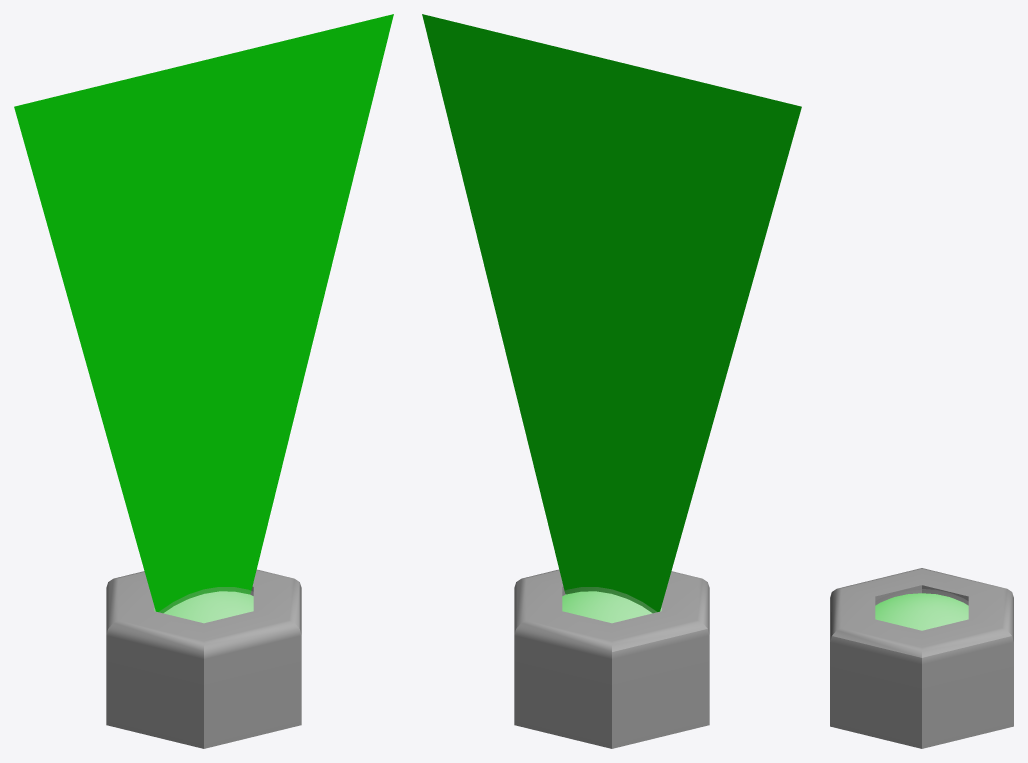
The model's file is hologram_projector.fbx.
3 views of the same model, side by side, from view 1: azimuth 30°, elevation 25°; view 2: azimuth 150°, elevation 25°; view 3: azimuth 270°, elevation 25° (orthographic). The views are drawn at different scales.
Parts seen in each view (by area): view 1: projection_rays, base1, lens, projector; view 2: projection_rays, base1, lens, projector; view 3: base1, lens, projector.
Part boxes in pixels (x1,y1,x2,y2): projection_rays: [14, 14, 393, 612]; base1: [106, 569, 301, 748]; lens: [154, 587, 253, 622]; projector: [154, 591, 253, 622]; projection_rays: [422, 14, 801, 612]; base1: [514, 569, 709, 748]; lens: [562, 587, 661, 622]; projector: [562, 591, 661, 622]; base1: [830, 568, 1013, 748]; lens: [875, 589, 968, 630]; projector: [875, 593, 968, 630].
Bounding box in the file's own units: 3.89 × 6.27 × 1.73.
